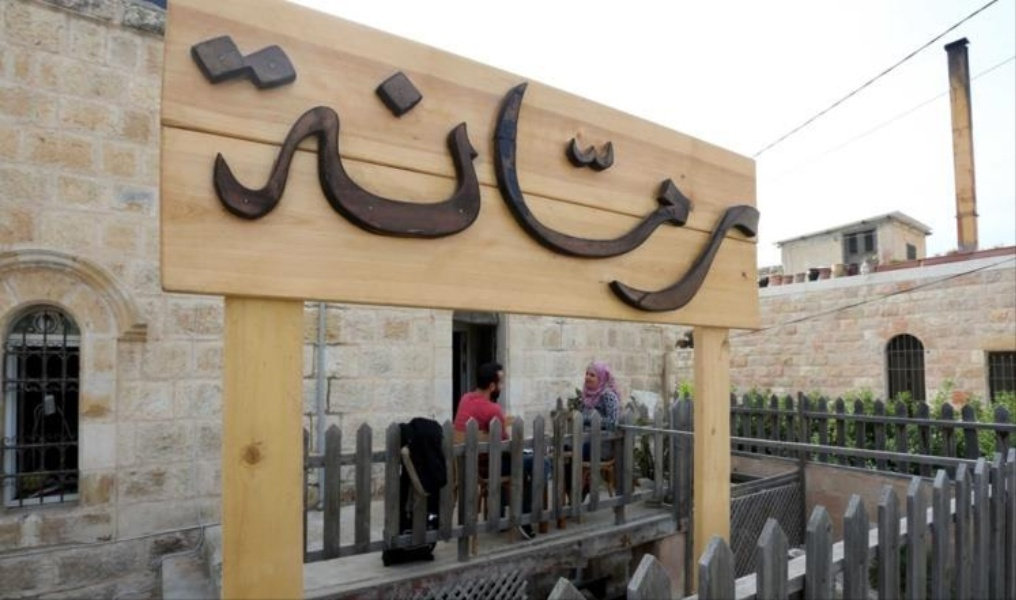text: (193, 1, 208, 341), (209, 1, 224, 341), (225, 1, 240, 341), (241, 1, 256, 341), (257, 1, 272, 341), (273, 1, 288, 341), (289, 1, 304, 341), (305, 1, 320, 341), (321, 1, 336, 341), (337, 1, 352, 341), (353, 1, 368, 341), (369, 1, 384, 341), (385, 1, 400, 341), (401, 1, 416, 341), (417, 1, 432, 341), (433, 1, 448, 341), (449, 1, 464, 341), (465, 1, 480, 341), (481, 1, 496, 341), (497, 1, 512, 341), (513, 1, 528, 341), (529, 1, 544, 341), (545, 1, 560, 341), (561, 1, 576, 341), (577, 1, 592, 341), (593, 1, 608, 341), (609, 1, 624, 341), (625, 1, 640, 341), (641, 1, 656, 341), (657, 1, 672, 341), (673, 1, 688, 341), (689, 1, 704, 341), (705, 1, 720, 341), (721, 1, 736, 341), (737, 1, 752, 341), (753, 1, 765, 341), (188, 1, 192, 341)
